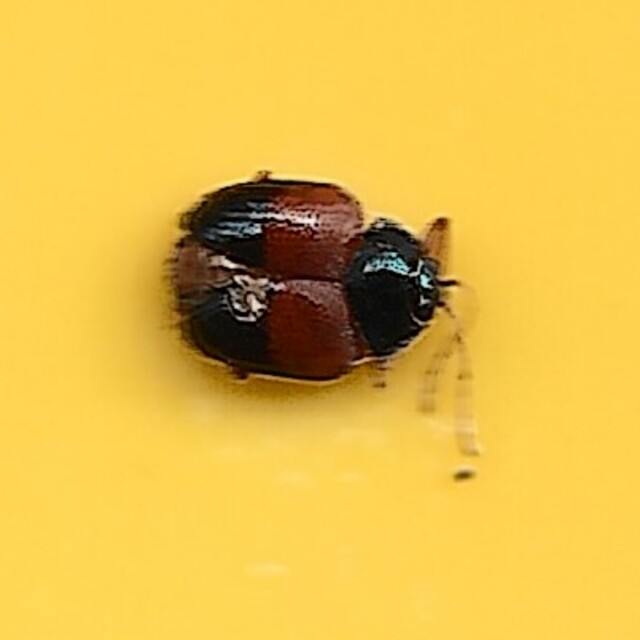Coleoptera: (159, 161, 481, 479)
